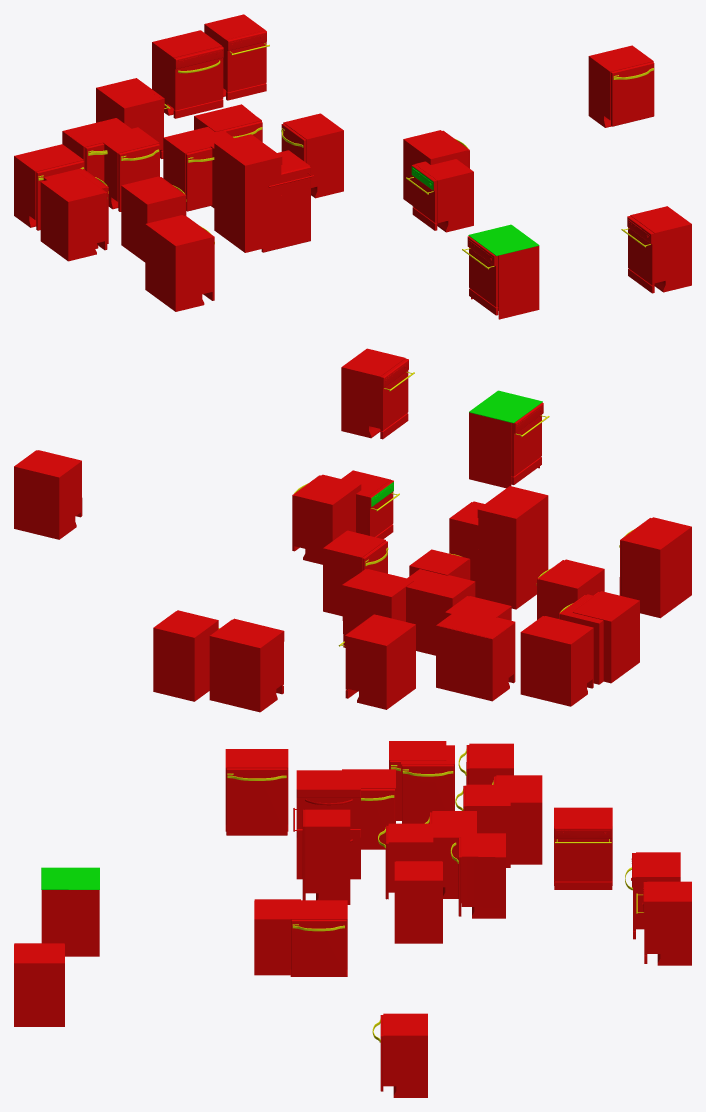
File: dishwashers_grp.fbx
3 renders of one model, top to bottom at view 1: azimuth 30°, elevation 25°; view 2: azimuth 150°, elevation 25°; view 3: azimuth 270°, elevation 25°, orthographic. The views are drawn at different scales.
Visible parts, largest first — view 1: dishwasher_FP18, dishwasher_FP2, dishwasher_FP26, dishwasher_FP30_2, dishwasher_FP13, dishwasher_FP10, dishwasher_FP30_1, dishwasher_FP28_door, dishwasher_FP1, dishwasher_FP23, dishwasher_FP25, dishwasher_FP19_door (+19 smaller); view 2: dishwasher_FP18, dishwasher_FP28, dishwasher_FP11, dishwasher_FP23, dishwasher_FP9, dishwasher_FP20, dishwasher_FP19, dishwasher_FP26, dishwasher_FP30_2, dishwasher_FP8, dishwasher_FP13, dishwasher_FP2 (+14 smaller); view 3: dishwasher_FP26, dishwasher_FP13, dishwasher_FP4, dishwasher_FP18_door, dishwasher_FP1, dishwasher_FP7, dishwasher_FP23_door, dishwasher_FP9, dishwasher_FP19, dishwasher_FP8_door, dishwasher_FP25, dishwasher_FP14_door (+16 smaller).
Part boxes in pixels (x1,y1,x2,y2): dishwasher_FP18: (145,215,212,311); dishwasher_FP2: (40,172,105,261); dishwasher_FP26: (468,224,539,319); dishwasher_FP30_2: (214,134,279,208); dishwasher_FP13: (630,206,691,292); dishwasher_FP10: (121,176,184,262); dishwasher_FP30_1: (214,183,279,252); dishwasher_FP28_door: (173,46,223,118); dishwasher_FP1: (283,113,343,198); dishwasher_FP23: (96,78,161,149); dishwasher_FP25: (415,159,473,232); dishwasher_FP19_door: (226,30,266,100); dishwasher_FP18: (621,517,691,618); dishwasher_FP28: (209,619,282,712); dishwasher_FP11: (520,616,593,706); dishwasher_FP23: (348,615,415,709); dishwasher_FP9: (14,450,81,539); dishwasher_FP20: (436,614,514,701); dishwasher_FP19: (153,611,216,701); dishwasher_FP26: (469,390,542,488); dishwasher_FP30_2: (480,486,548,563); dishwasher_FP8: (294,474,361,564); dishwasher_FP13: (341,348,405,438); dishwasher_FP2: (572,591,639,683); dishwasher_FP26: (41,867,99,956); dishwasher_FP13: (14,944,64,1026); dishwasher_FP4: (305,809,350,904); dishwasher_FP18_door: (226,768,287,835); dishwasher_FP1: (394,861,442,943); dishwasher_FP7: (461,833,505,918); dishwasher_FP23_door: (554,826,612,889); dishwasher_FP9: (383,1013,427,1097); dishwasher_FP19: (647,881,691,965); dishwasher_FP8_door: (291,919,346,976); dishwasher_FP25: (254,900,290,975); dishwasher_FP14_door: (402,764,453,823).
Bounding box in the file's own units: 870 × 137 × 844.
